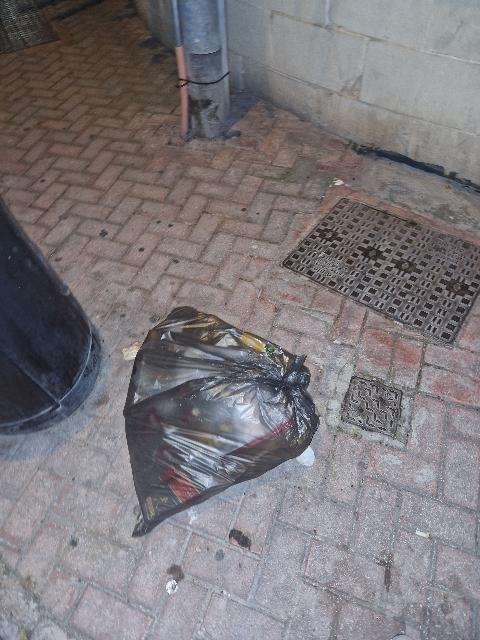Recyclable -Grey-: (123, 307, 319, 536)
